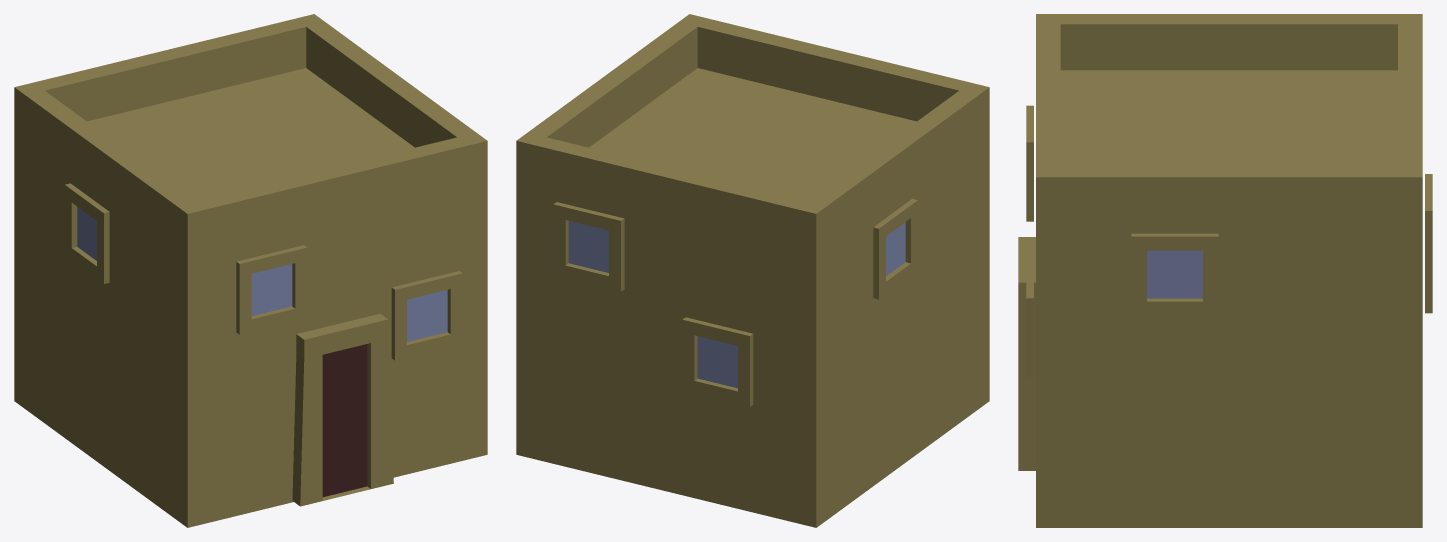
Rendered from Desert house1.fbx.
3 renders of one model, left to right at view 1: azimuth 30°, elevation 25°; view 2: azimuth 150°, elevation 25°; view 3: azimuth 270°, elevation 25°, orthographic. The views are drawn at different scales.
Parts seen in each view (by area): view 1: Desert house1; view 2: Desert house1; view 3: Desert house1.
Boxes of the visible parts, x1,y1,x2,y2 form: Desert house1: [14, 14, 487, 527]; Desert house1: [516, 14, 989, 527]; Desert house1: [1018, 14, 1432, 527].
Bounding box in the file's own units: 312 × 300 × 321.
